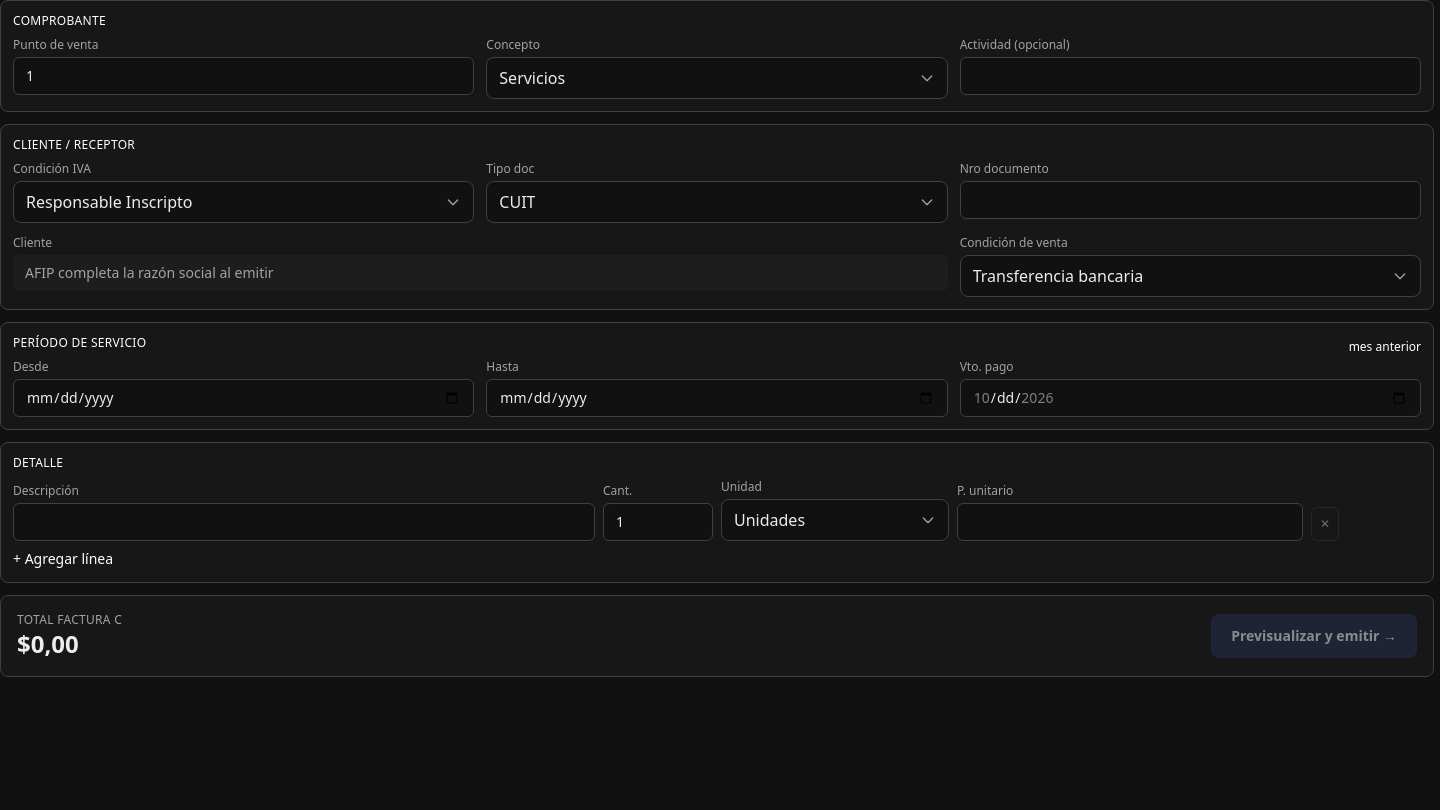
Test case: EmissionForm — cliente autocompletar › al tipear un doc conocido, prefila condición IVA + venta y muestra el nombre
The image size is (1440, 810).
In the field with test id "nro-doc": (1190, 200) top-left (960, 181), bottom-right (1421, 219), type "30707915281"
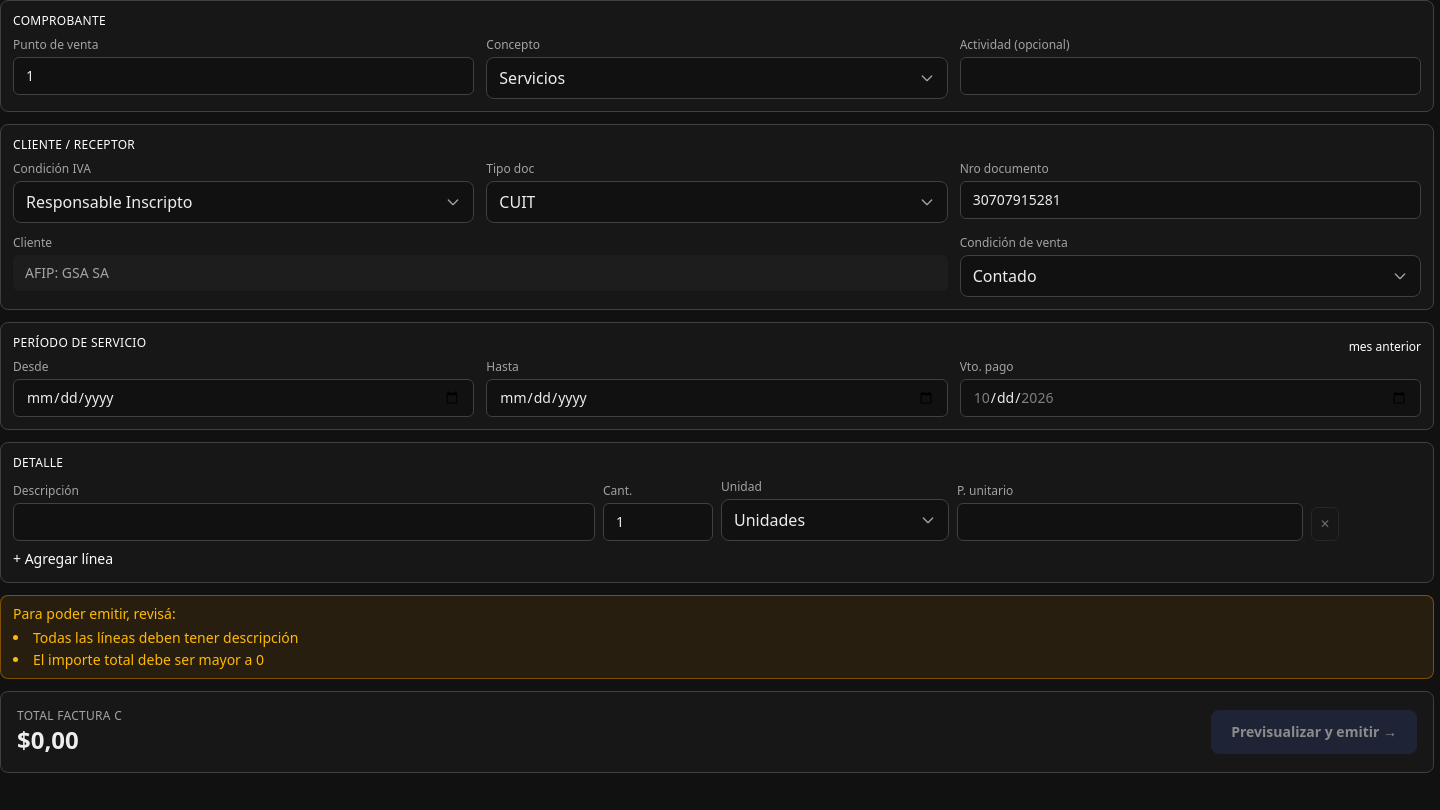
Now the text with test id "cliente-resuelto" shows "GSA SA", box top-left (25, 263), bottom-right (109, 282)
